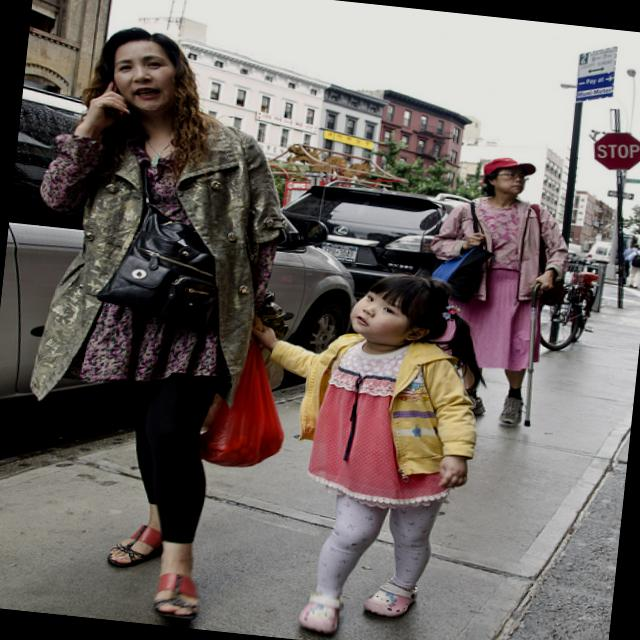Vehicle: (0, 85, 375, 432), (282, 176, 459, 302), (586, 240, 612, 264), (568, 241, 582, 257), (567, 250, 581, 264)
